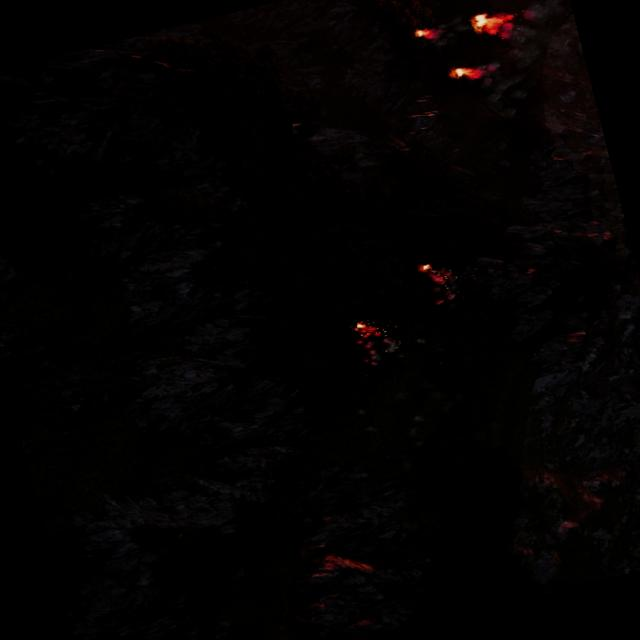fire: (414, 258, 460, 309), (468, 7, 513, 43), (350, 318, 382, 342), (450, 62, 480, 82), (413, 26, 431, 41), (415, 261, 432, 273)
smoke: (472, 54, 534, 120), (350, 330, 397, 368), (424, 14, 469, 49), (512, 0, 567, 28)
